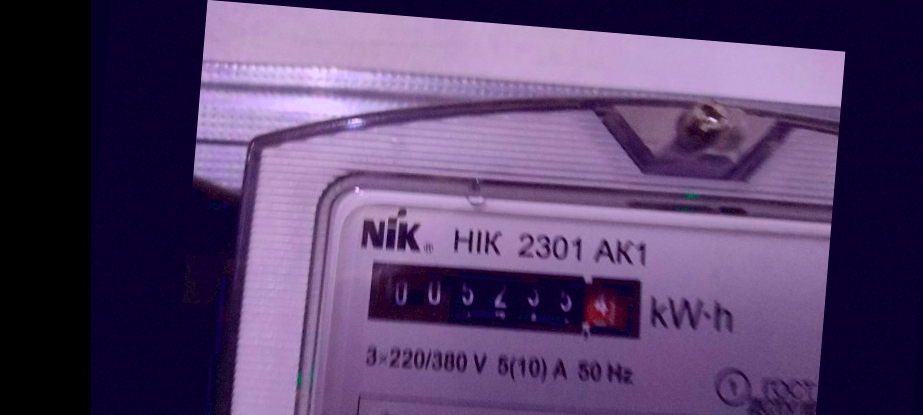0: (424, 274, 446, 308), (392, 275, 412, 307)
2: (490, 276, 513, 312)
3: (522, 277, 548, 311)
4: (590, 282, 615, 320)
5: (555, 278, 580, 316), (458, 274, 479, 309)
screen: (350, 243, 659, 354)
